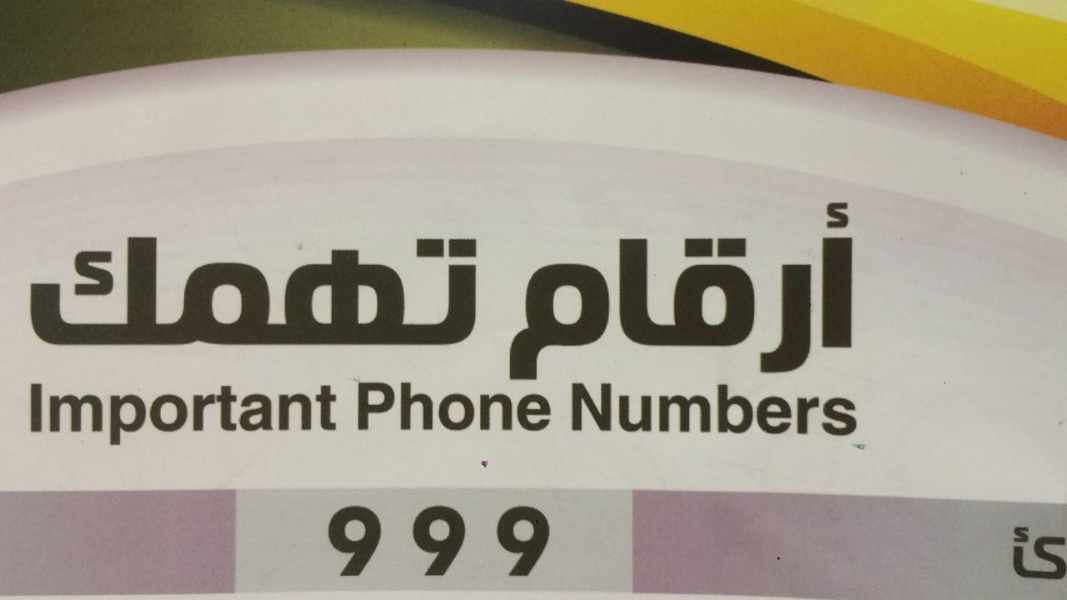text: (529, 199, 544, 382), (545, 199, 560, 382), (561, 199, 576, 382), (577, 199, 592, 382), (593, 199, 608, 382), (609, 199, 624, 382), (625, 199, 640, 382), (641, 199, 656, 382), (657, 199, 672, 382), (673, 199, 688, 382), (689, 199, 704, 382), (705, 199, 720, 382), (721, 199, 736, 382), (737, 199, 752, 382), (753, 199, 768, 382), (769, 199, 784, 382), (785, 199, 800, 382), (801, 199, 816, 382), (817, 199, 832, 382), (833, 199, 848, 382), (33, 235, 48, 349), (49, 235, 64, 349), (65, 235, 80, 349), (81, 235, 96, 349), (97, 235, 112, 349), (113, 235, 128, 349), (129, 235, 144, 349), (145, 235, 160, 349), (161, 235, 176, 349), (177, 235, 192, 349), (193, 235, 208, 349), (209, 235, 224, 349), (225, 235, 240, 349), (241, 235, 256, 349), (257, 235, 272, 349), (273, 235, 288, 349), (289, 235, 304, 349), (305, 235, 320, 349), (321, 235, 336, 349), (337, 235, 352, 349), (353, 235, 368, 349), (369, 235, 384, 349), (385, 235, 400, 349), (401, 235, 416, 349), (417, 235, 432, 349), (433, 235, 448, 349), (449, 235, 464, 349), (849, 199, 858, 382), (465, 235, 479, 349), (337, 506, 352, 578), (353, 506, 368, 578), (497, 506, 512, 578), (513, 506, 528, 578), (529, 506, 544, 578), (417, 507, 432, 576), (433, 507, 448, 576), (449, 507, 464, 576), (369, 506, 383, 578), (33, 380, 48, 446), (49, 380, 64, 446), (65, 380, 80, 446), (81, 380, 96, 446), (97, 380, 112, 446), (113, 380, 128, 446), (129, 380, 144, 446), (145, 380, 160, 446), (161, 380, 176, 446), (177, 380, 192, 446), (193, 380, 208, 446), (209, 380, 224, 446), (225, 380, 240, 446), (241, 380, 256, 446), (257, 380, 272, 446), (273, 380, 288, 446), (289, 380, 304, 446), (305, 380, 320, 446), (321, 380, 336, 446), (577, 379, 592, 439), (593, 379, 608, 439), (609, 379, 624, 439), (625, 379, 640, 439), (641, 379, 656, 439), (657, 379, 672, 439), (673, 379, 688, 439), (689, 379, 704, 439), (705, 379, 720, 439), (721, 379, 736, 439), (737, 379, 752, 439), (753, 379, 768, 439), (769, 379, 784, 439), (785, 379, 800, 439), (801, 379, 816, 439), (817, 379, 832, 439), (833, 379, 848, 439), (1025, 526, 1040, 581), (1041, 526, 1056, 581), (369, 379, 384, 432), (385, 379, 400, 432), (401, 379, 416, 432), (417, 379, 432, 432), (433, 379, 448, 432), (449, 379, 464, 432), (465, 379, 480, 432), (481, 379, 496, 432), (497, 379, 512, 432), (513, 379, 528, 432), (529, 379, 544, 432), (326, 506, 336, 578), (1014, 526, 1024, 581), (1057, 526, 1067, 581), (849, 379, 858, 439), (358, 379, 368, 432), (545, 506, 552, 578), (569, 379, 576, 439), (545, 379, 552, 432), (411, 507, 416, 576), (465, 507, 469, 576), (337, 380, 340, 446), (527, 199, 528, 382), (30, 380, 32, 446), (31, 235, 32, 349)
